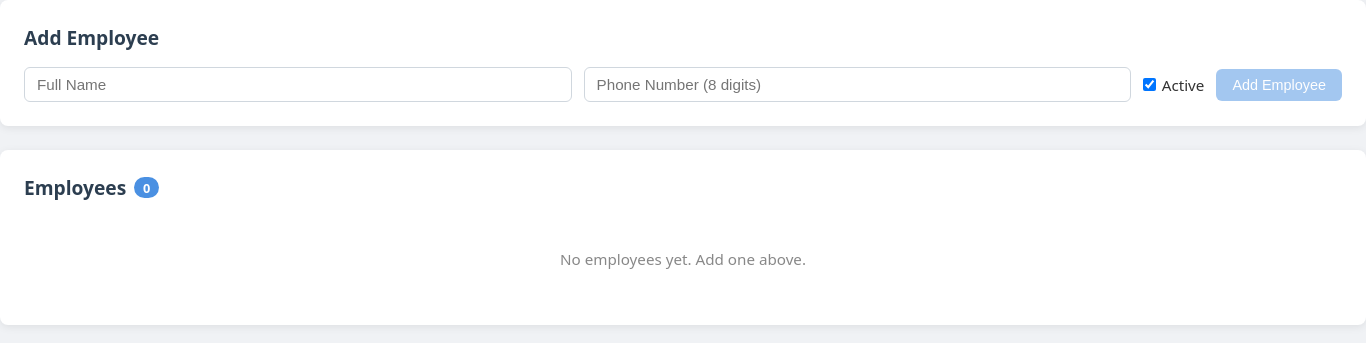
Test case: addEmployee › Add Employee button is enabled when both fields are filled
The width and height of the screenshot is (1366, 343).
Type "Alice" into the field with placeholder "Full Name". click: point(298, 84)
box: [24,67,572,102]
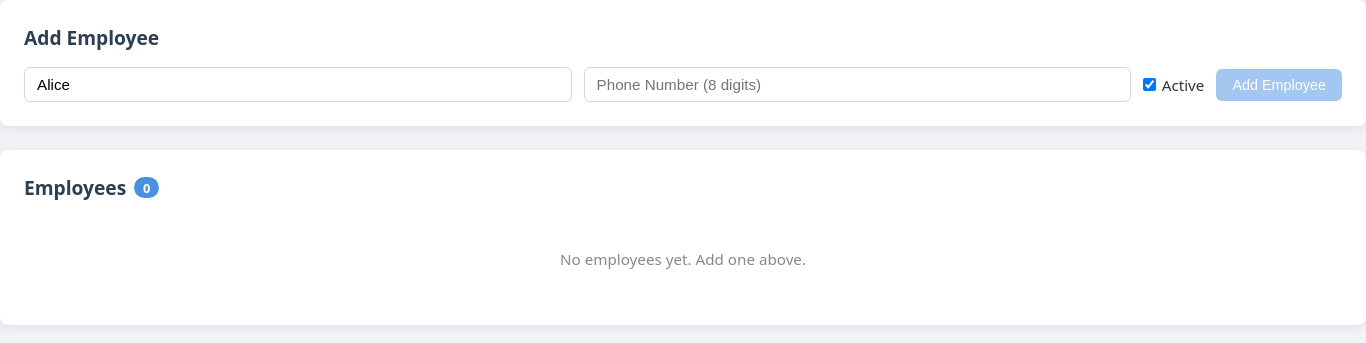
Type "55500011" into the field with placeholder "Phone Number (8 digits)". click: point(857, 84)
box: [584,67,1131,102]
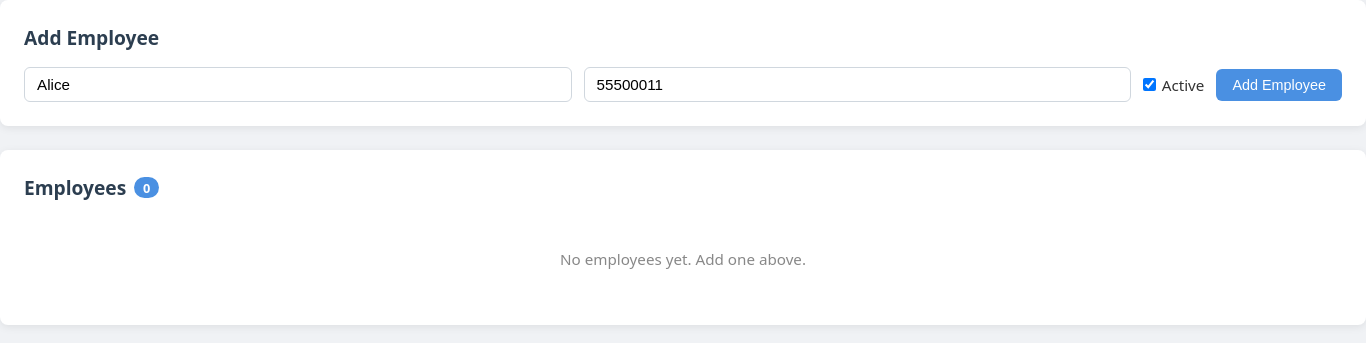
Now the button "Add Employee" is enabled, box [1216,68,1342,100]
